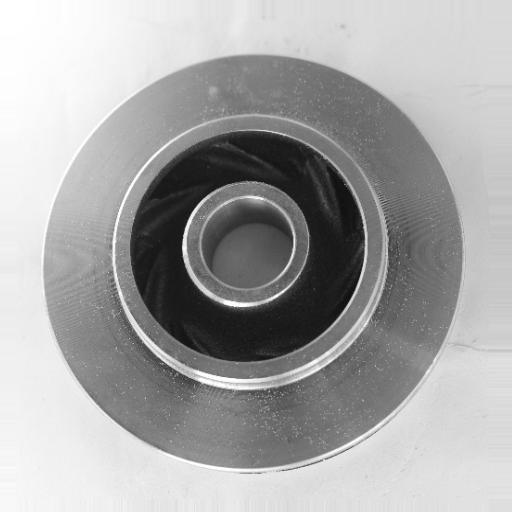polished_casting: (43, 50, 463, 473)
